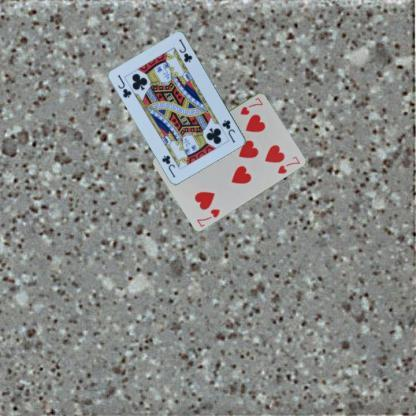7h: (194, 206, 221, 228), (237, 95, 264, 116)
Jc: (115, 72, 133, 100), (219, 118, 237, 144)
